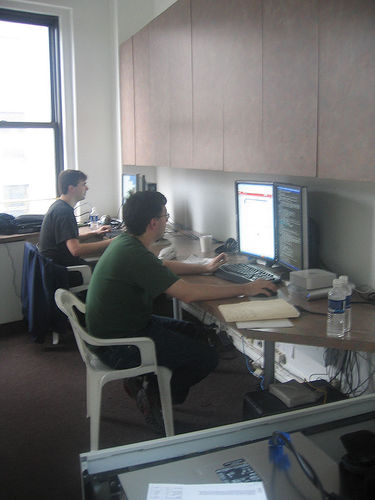without_mask: (136, 195, 169, 246), (59, 173, 89, 203)
